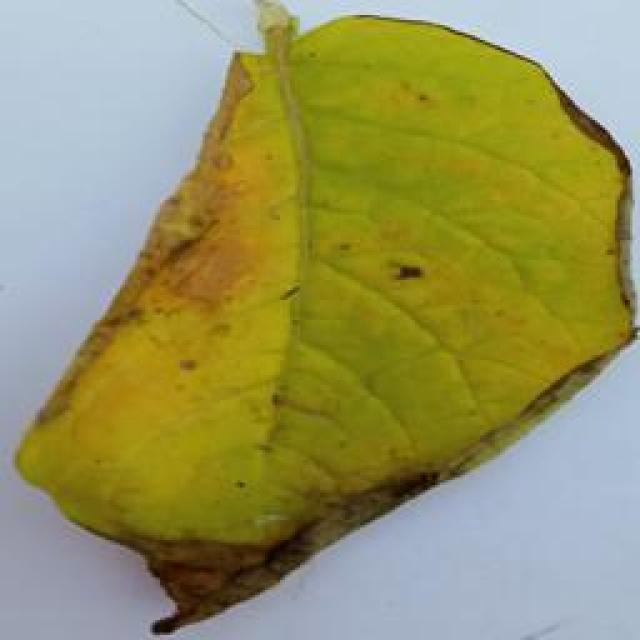Potato_Late_Blight: (18, 8, 624, 632)
